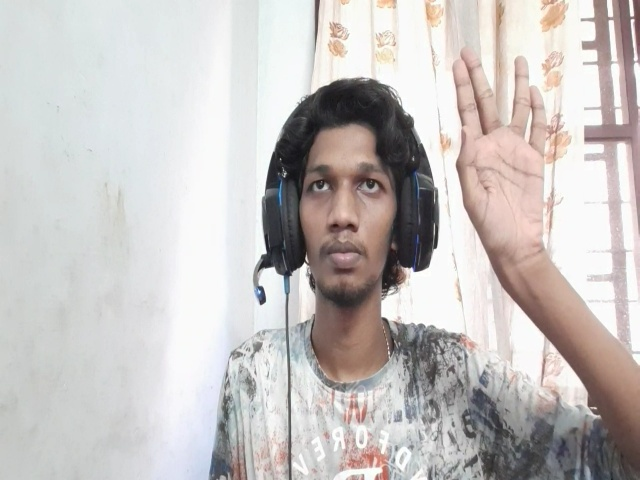LiveLong: (452, 46, 548, 258)
